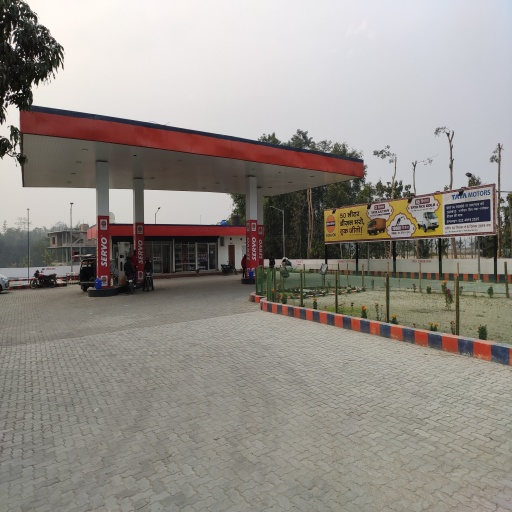roof: (17, 104, 365, 210)
